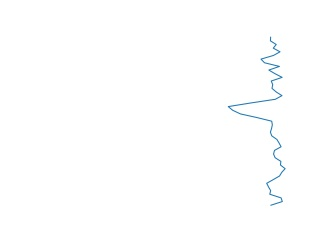interdistributaryEstuary: (224, 35, 293, 208)
